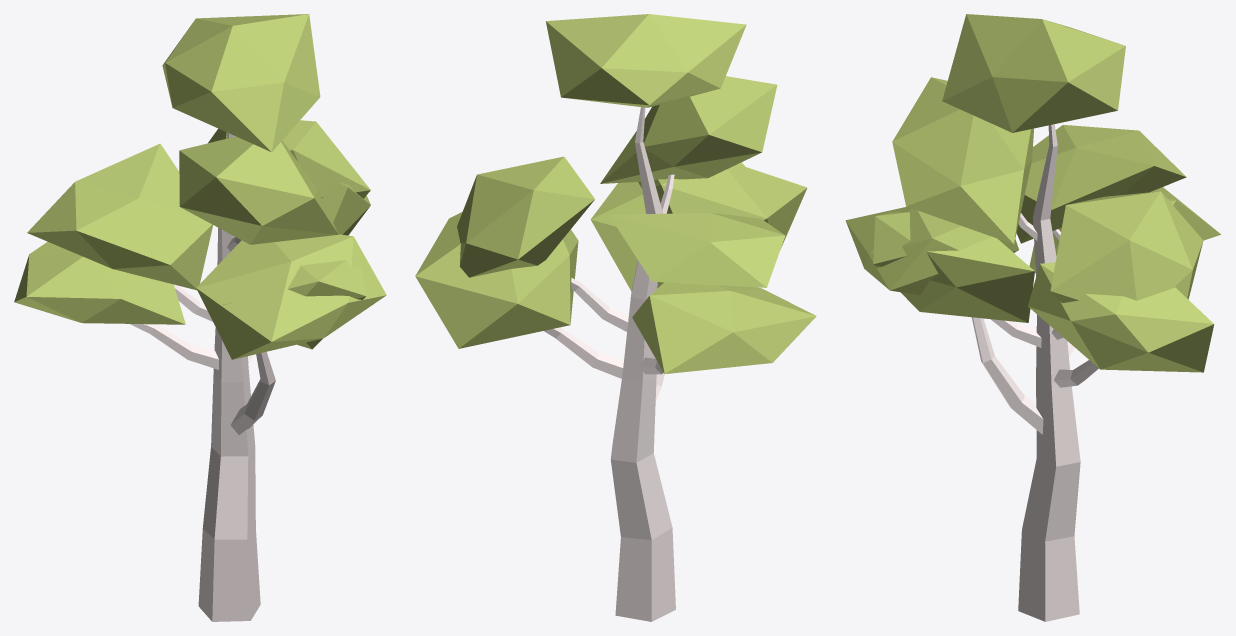
File: Birch_006.fbx
The picture shows the model from 3 angles, left to right: view 1: azimuth 30°, elevation 25°; view 2: azimuth 150°, elevation 25°; view 3: azimuth 270°, elevation 25°; orthographic projection.
Visible parts, largest first — view 1: Birch.006; view 2: Birch.006; view 3: Birch.006.
Boxes of the visible parts, box(x1,y1,x2,y2) form: Birch.006: box(14, 14, 386, 621); Birch.006: box(415, 14, 816, 621); Birch.006: box(845, 14, 1220, 621).
Size of the model in its own units: 3.52 by 5.53 by 3.2.
